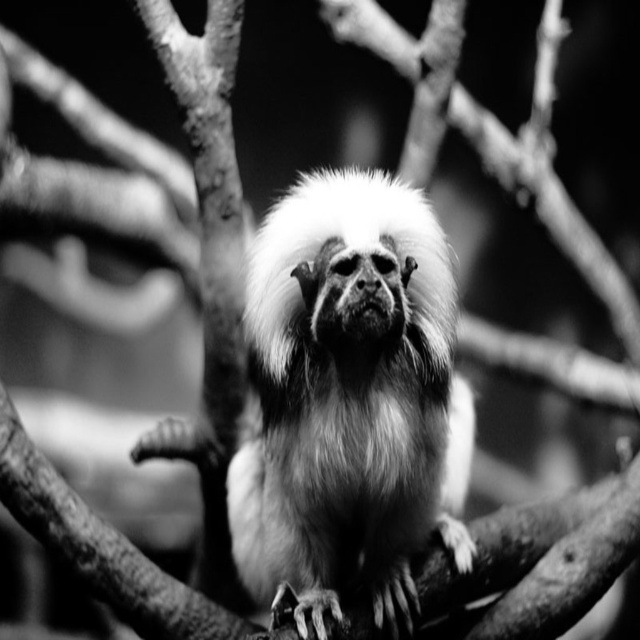Monkey: (220, 180, 465, 599)
